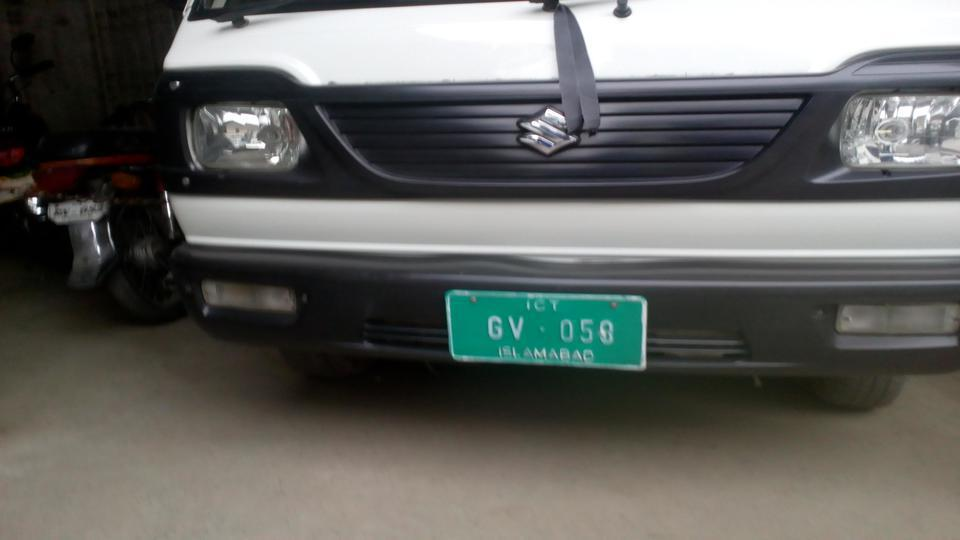NumberPlate: (438, 287, 650, 373)
